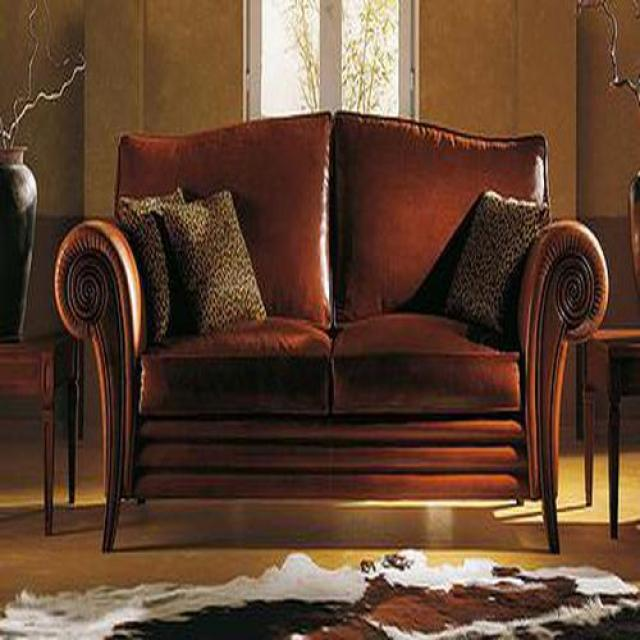sofa: (52, 111, 608, 552)
